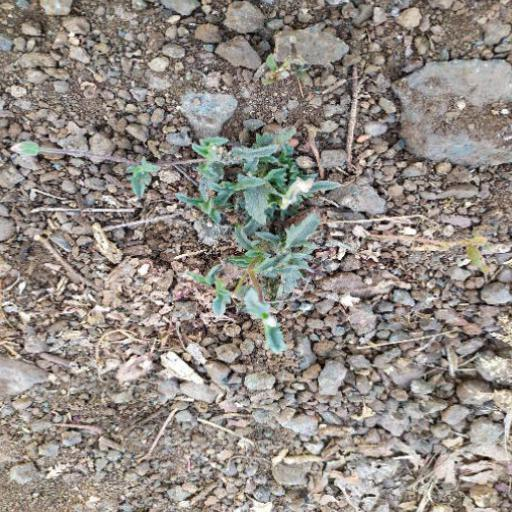weed: (116, 121, 346, 385)
